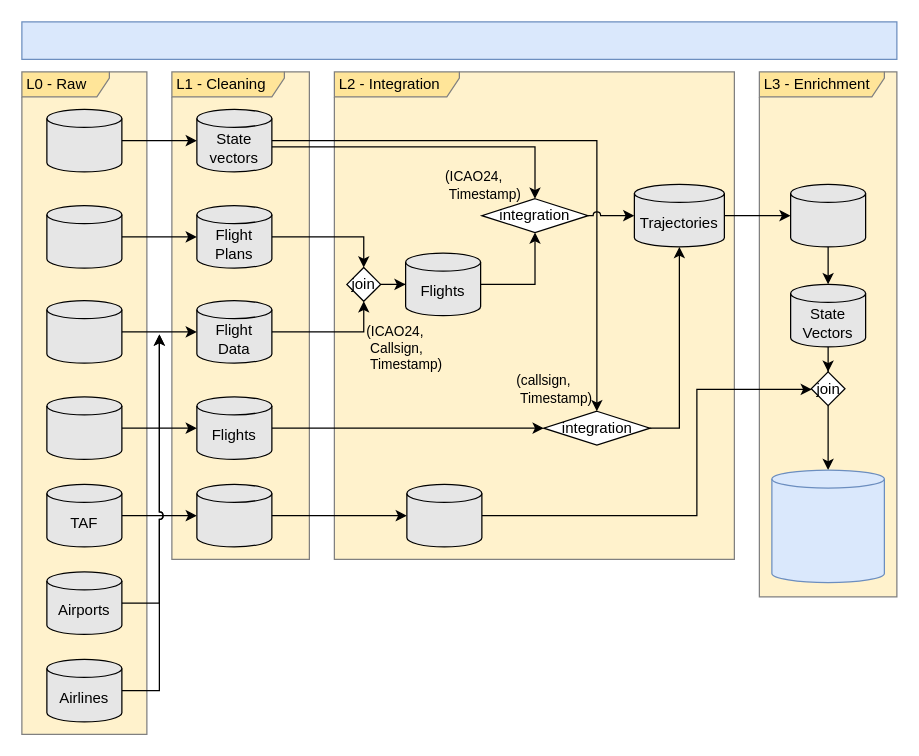
Some shapes in this 919 by 756 pixel diagram are drawn without their labels. Each missing label, with the centre of its shape:
ADRR: (84,427)
Clean Trajectories: (827,215)
Current Forecast: (444,515)
Data Quality Metrics and evaluation: (459,40)
Enriched 4D Trajectories: (827,525)
NM FDATA: (84,331)
NM FPLAN: (84,236)
OpenSky: (84,140)
Weather Forecast: (234,515)
